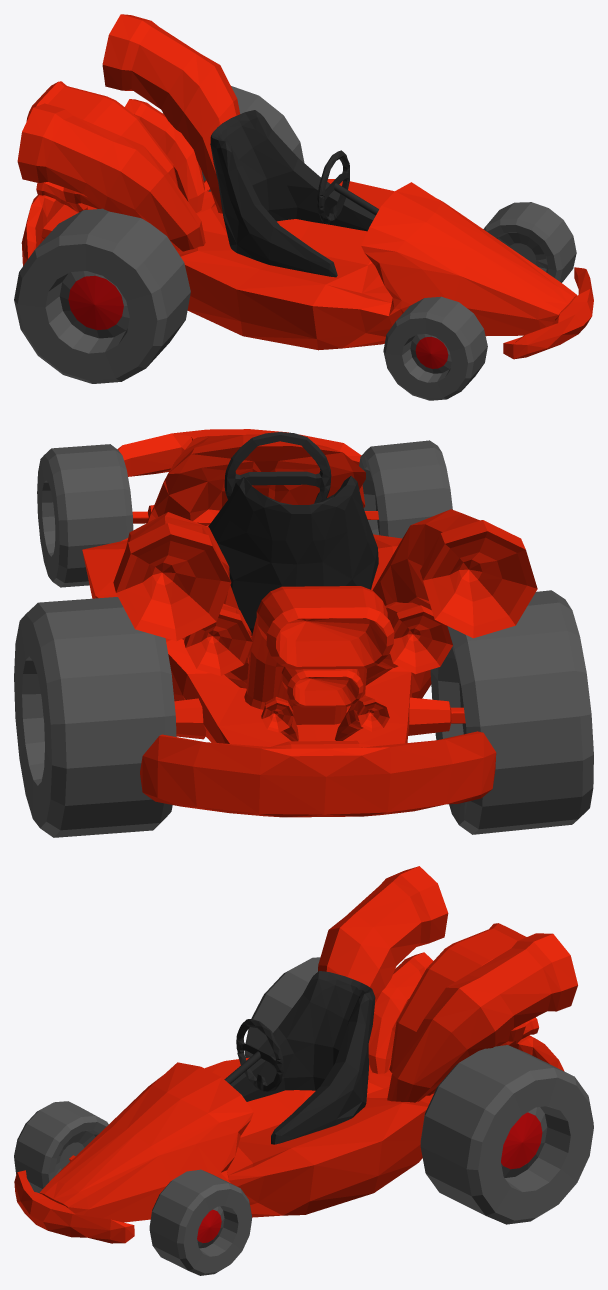
The model's file is meowrush_kart.glb.
3 views of the same model, one above another, from view 1: azimuth 30°, elevation 25°; view 2: azimuth 150°, elevation 25°; view 3: azimuth 270°, elevation 25° (orthographic). The views are drawn at different scales.
Parts seen in each view (by area): view 1: body_kart01.002, wheel01_FL.004, wheel01_FL.002, wheel01_FL.001, wheel01_FL.005; view 2: body_kart01.002, wheel01_FL.005, wheel01_FL.004, wheel01_FL.001, wheel01_FL.002; view 3: body_kart01.002, wheel01_FL.005, wheel01_FL.001, wheel01_FL.002, wheel01_FL.004.
Part boxes in pixels (x1,y1,x2,y2): body_kart01.002: (17, 14, 593, 359); wheel01_FL.004: (14, 208, 190, 383); wheel01_FL.002: (383, 296, 487, 400); wheel01_FL.001: (483, 202, 576, 282); wheel01_FL.005: (163, 86, 304, 191); body_kart01.002: (82, 429, 537, 817); wheel01_FL.005: (14, 597, 176, 837); wheel01_FL.004: (430, 590, 593, 834); wheel01_FL.001: (37, 444, 133, 587); wheel01_FL.002: (359, 440, 452, 538); body_kart01.002: (14, 866, 577, 1243); wheel01_FL.005: (420, 1045, 593, 1224); wheel01_FL.001: (149, 1169, 251, 1275); wheel01_FL.002: (14, 1101, 108, 1193); wheel01_FL.004: (244, 957, 320, 1057).
Size of the model in its own units: 1.04 by 0.518 by 1.08.
